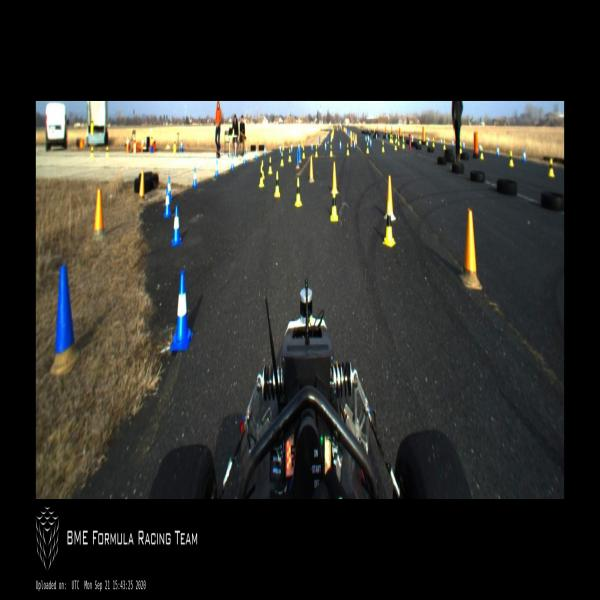blue_cone: (170, 270, 194, 350), (171, 205, 182, 245), (164, 188, 172, 216), (166, 176, 172, 202), (193, 167, 197, 187), (215, 161, 218, 177), (231, 154, 234, 170), (243, 152, 246, 165), (523, 151, 526, 161), (353, 140, 356, 148), (340, 139, 342, 150), (255, 149, 257, 159), (497, 146, 499, 156), (291, 143, 293, 153), (311, 142, 313, 152), (370, 137, 372, 147), (264, 147, 266, 156), (440, 138, 442, 146), (479, 144, 481, 152), (368, 136, 370, 144), (452, 140, 454, 146), (463, 142, 465, 148), (365, 136, 367, 142), (280, 144, 281, 154), (325, 140, 326, 150), (376, 133, 377, 140), (428, 136, 429, 142)
yellow_cone: (382, 202, 396, 247), (330, 189, 338, 221), (294, 178, 302, 206), (274, 172, 280, 198), (258, 166, 264, 187), (548, 158, 554, 177), (260, 159, 264, 179), (268, 157, 272, 174), (280, 151, 284, 166), (510, 151, 514, 166), (288, 148, 292, 161), (315, 143, 318, 156), (480, 146, 483, 159), (366, 141, 369, 154), (302, 146, 305, 158), (394, 140, 397, 150), (402, 138, 405, 148), (443, 140, 446, 150), (432, 138, 435, 147), (330, 144, 332, 156), (347, 143, 349, 155), (460, 141, 462, 153), (382, 142, 384, 152), (398, 136, 400, 146), (392, 134, 394, 143), (426, 137, 428, 146), (419, 136, 421, 144), (390, 134, 392, 142)
